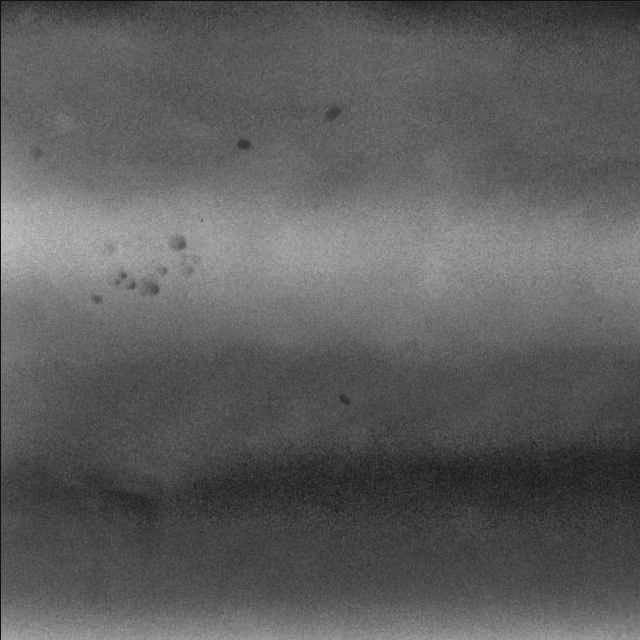Pore: (61, 218, 221, 320), (322, 92, 348, 132), (21, 139, 51, 166), (234, 134, 256, 157), (334, 388, 351, 412)
